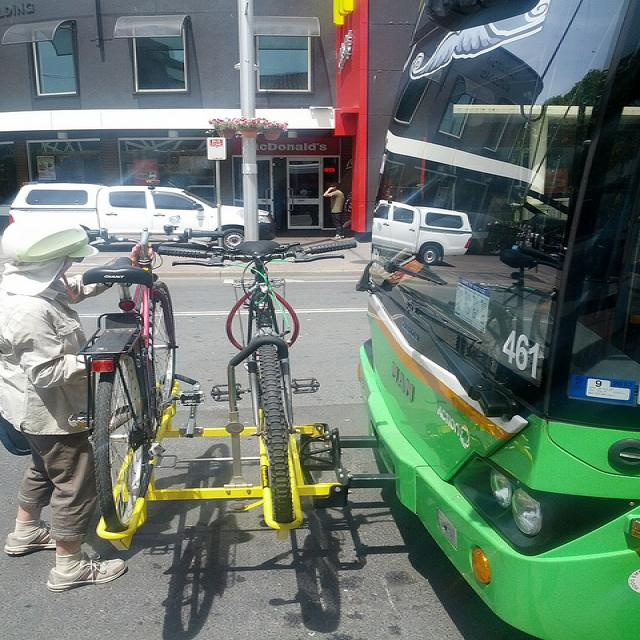Vehicle: (324, 0, 640, 640), (7, 178, 275, 250)
